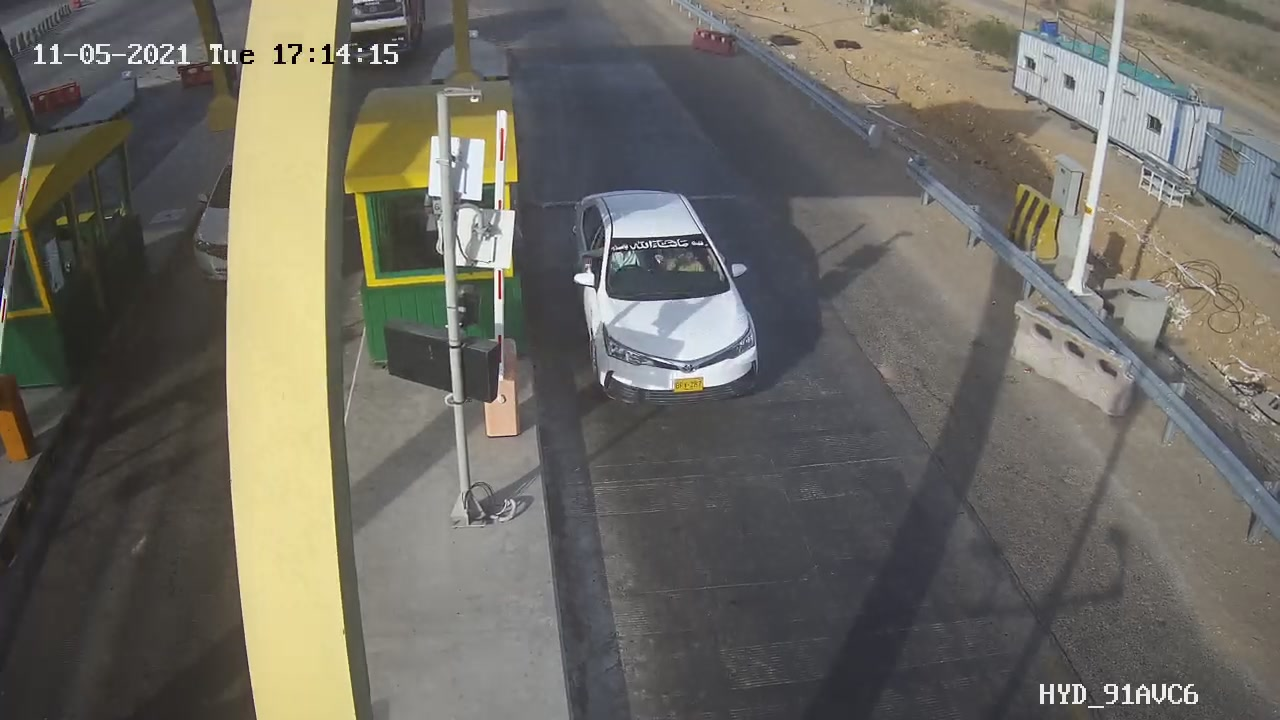F1: (548, 172, 787, 429)
